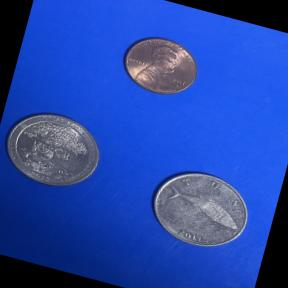coin: (136, 157, 264, 264), (0, 97, 115, 205), (108, 22, 209, 110)
